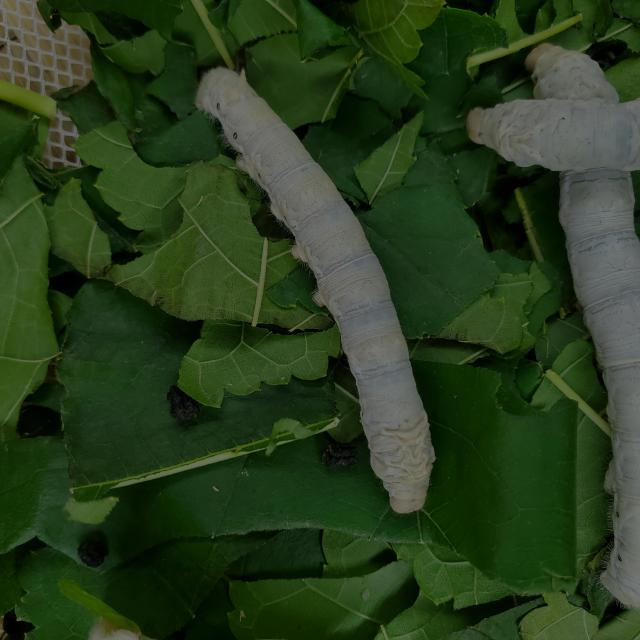Healthy: (174, 51, 448, 527)
